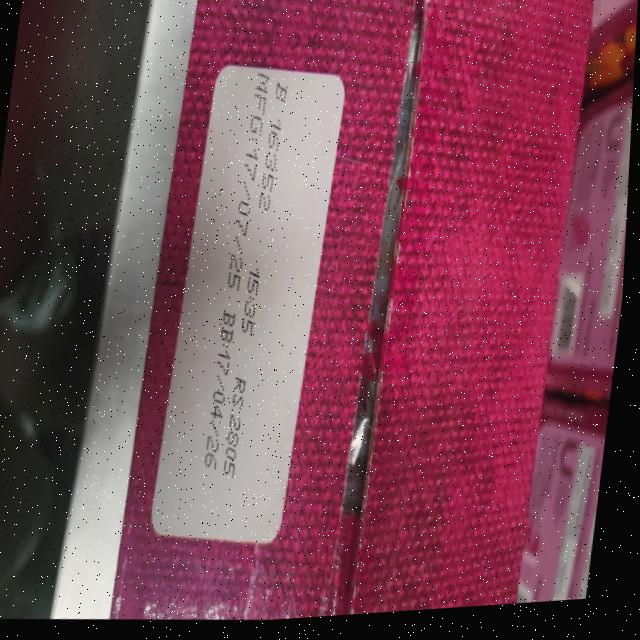BB: (201, 303, 239, 477)
Batch: (256, 77, 293, 228)
MFG: (224, 62, 274, 298)
RS: (220, 367, 252, 484)
TimeStamp: (239, 263, 264, 342)
